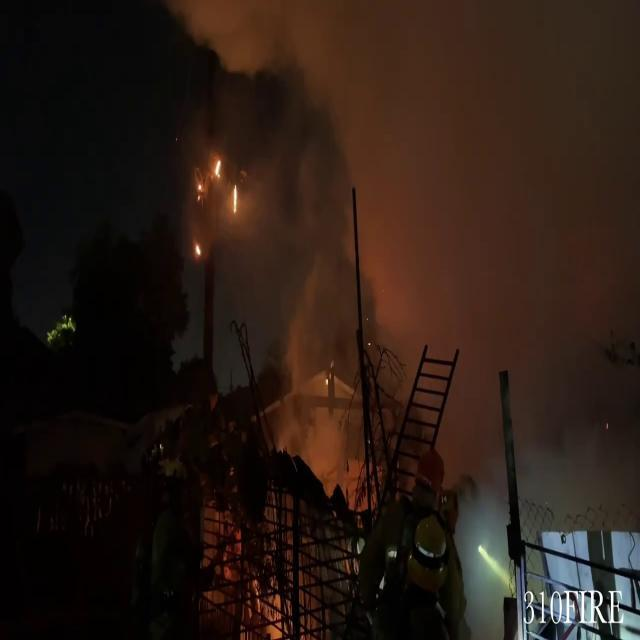Smoke: (267, 1, 636, 484)
